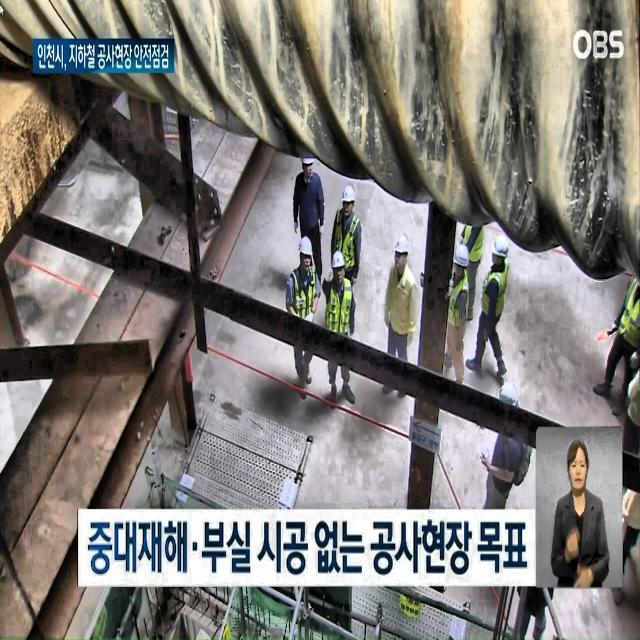safety_helmet: (492, 231, 512, 262), (297, 228, 314, 261), (454, 243, 471, 272), (340, 182, 357, 206), (332, 248, 346, 274), (301, 146, 317, 168), (394, 234, 409, 256)
safety_jacket: (288, 262, 318, 334), (615, 279, 640, 360), (332, 208, 360, 278), (444, 271, 469, 338), (483, 265, 507, 332), (328, 276, 352, 338), (462, 207, 486, 264)
